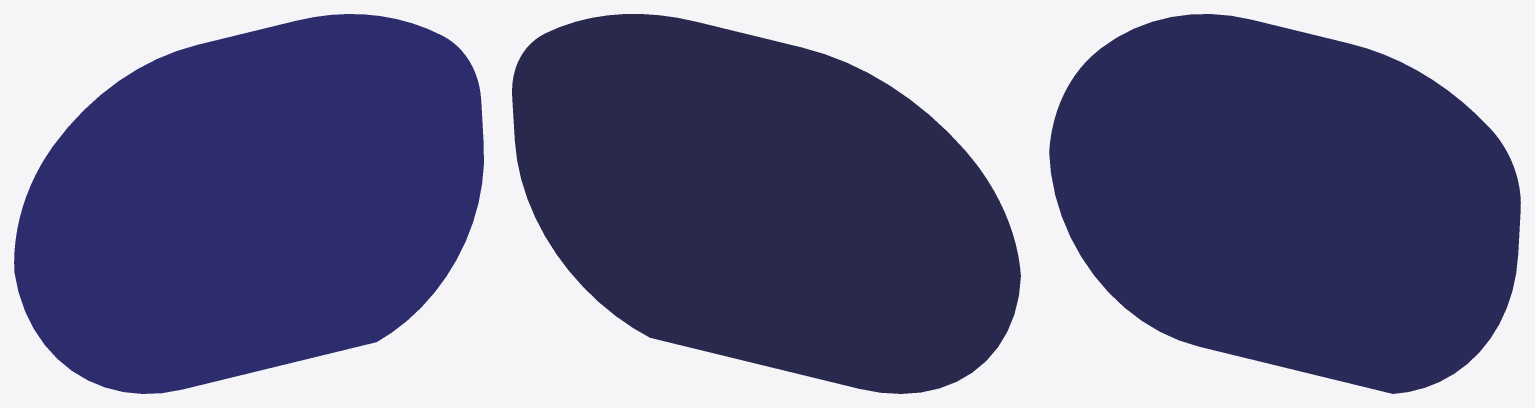
File: original-14.obj
3 views of the same model, side by side, from view 1: azimuth 30°, elevation 25°; view 2: azimuth 150°, elevation 25°; view 3: azimuth 330°, elevation 25° (orthographic). The views are drawn at different scales.
Parts seen in each view (by area): view 1: 3dw.eb6176d02ba79f0640010f30b5cd77ee/Model/mesh1/mesh1-geometry/; view 2: 3dw.eb6176d02ba79f0640010f30b5cd77ee/Model/mesh1/mesh1-geometry/; view 3: 3dw.eb6176d02ba79f0640010f30b5cd77ee/Model/mesh1/mesh1-geometry/.
Boxes of the visible parts, x1,y1,x2,y2 form: 3dw.eb6176d02ba79f0640010f30b5cd77ee/Model/mesh1/mesh1-geometry/: [14, 14, 483, 393]; 3dw.eb6176d02ba79f0640010f30b5cd77ee/Model/mesh1/mesh1-geometry/: [512, 14, 1020, 393]; 3dw.eb6176d02ba79f0640010f30b5cd77ee/Model/mesh1/mesh1-geometry/: [1049, 14, 1520, 393].
Bounding box in the file's own units: 0.3852 × 0.2528 × 0.0266.
